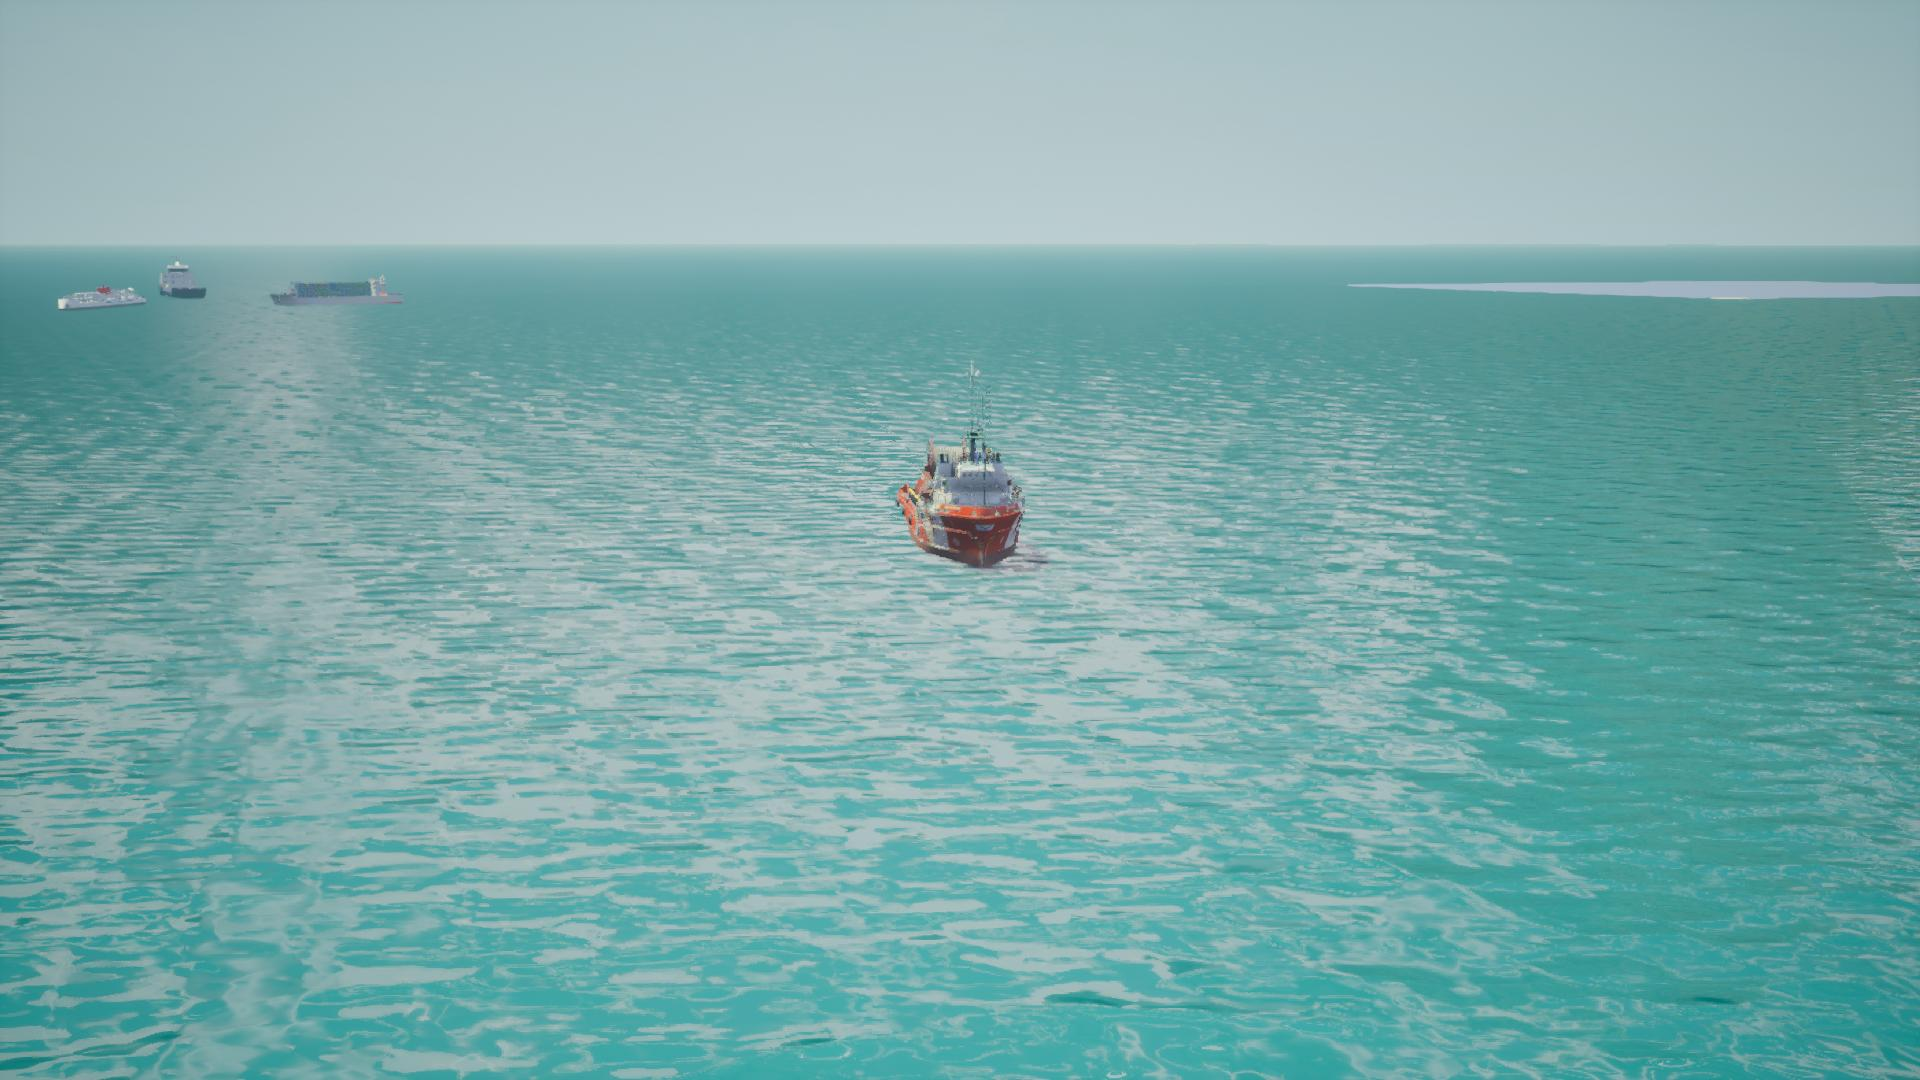Tug Boat: (899, 435, 1025, 567)
